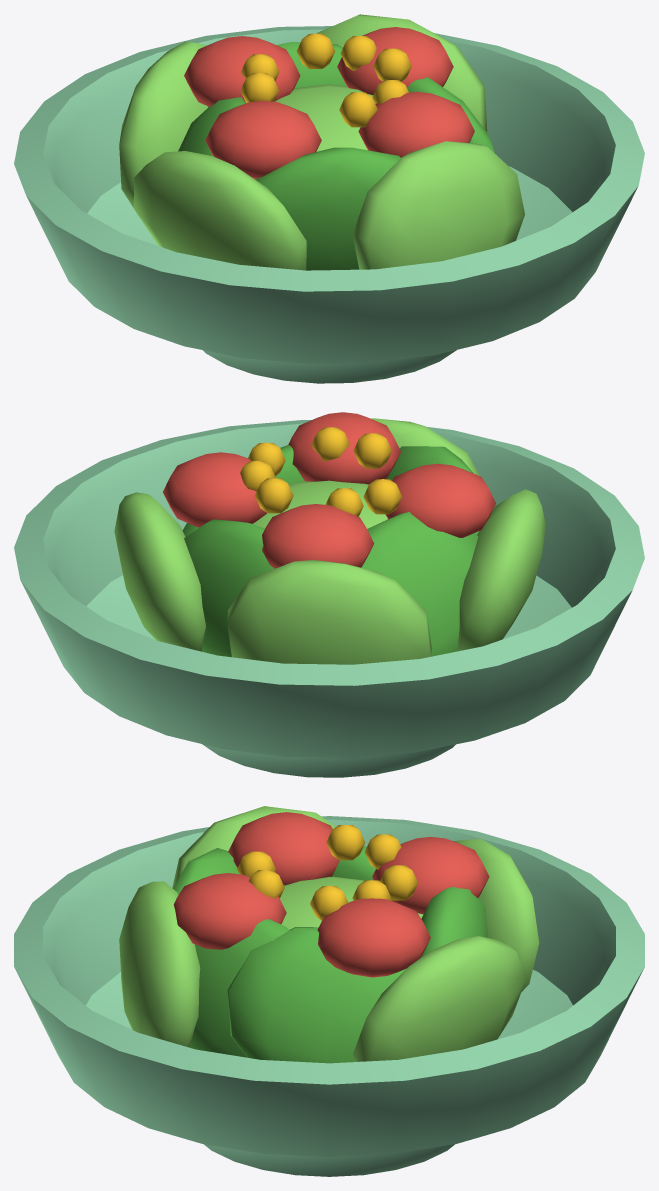
File: salada.glb
3 views of the same model, one above another, from view 1: azimuth 30°, elevation 25°; view 2: azimuth 150°, elevation 25°; view 3: azimuth 270°, elevation 25° (orthographic).
Parts seen in each view (by area): view 1: salada; view 2: salada; view 3: salada.
Boxes of the visible parts, x1=… form: salada: x1=14, y1=14, x2=644, y2=383; salada: x1=14, y1=412, x2=644, y2=777; salada: x1=14, y1=806, x2=644, y2=1176.
Size of the model in its own units: 0.26 by 0.118 by 0.2581.
